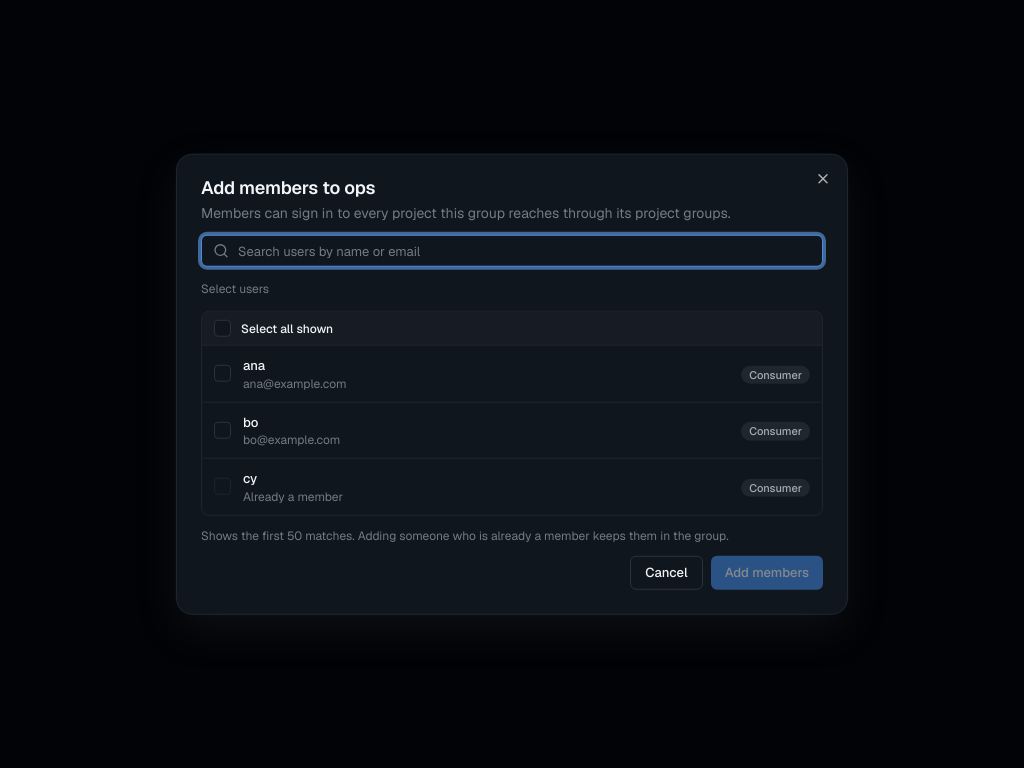
Test: AddMembersModal › shows bulk failures instead of claiming success
The image size is (1024, 768).
Click the checkbox named "ana" at point(222, 374), box [214, 365, 231, 382]
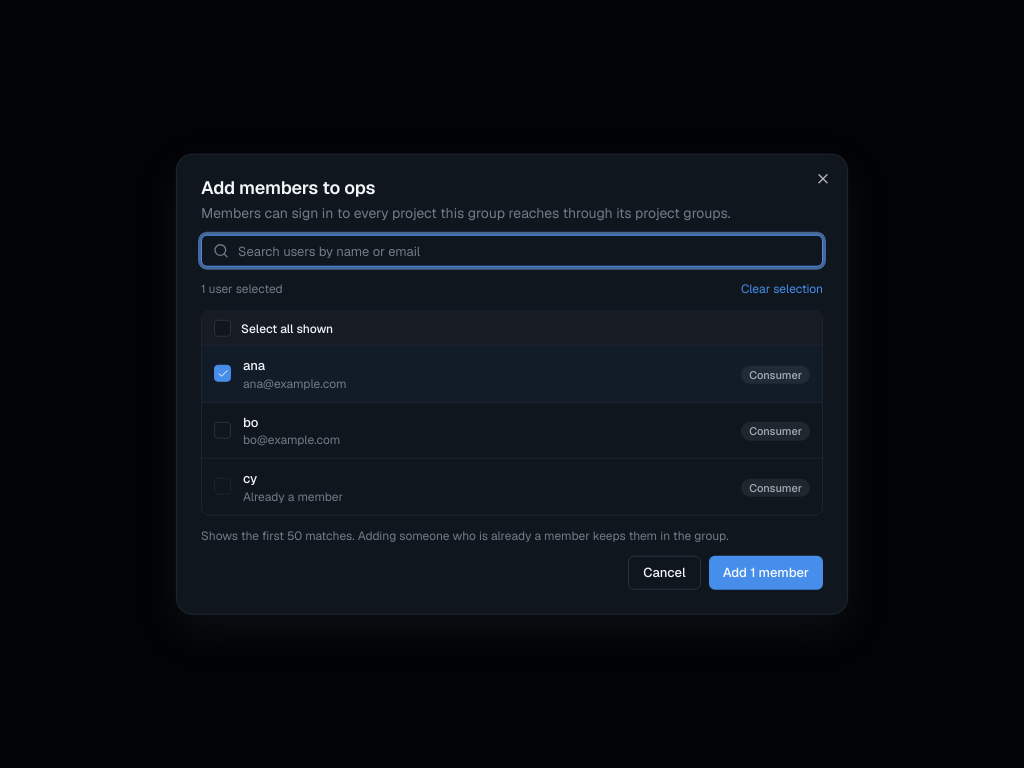
Click the checkbox named "bo" at point(222, 430), box [214, 422, 231, 438]
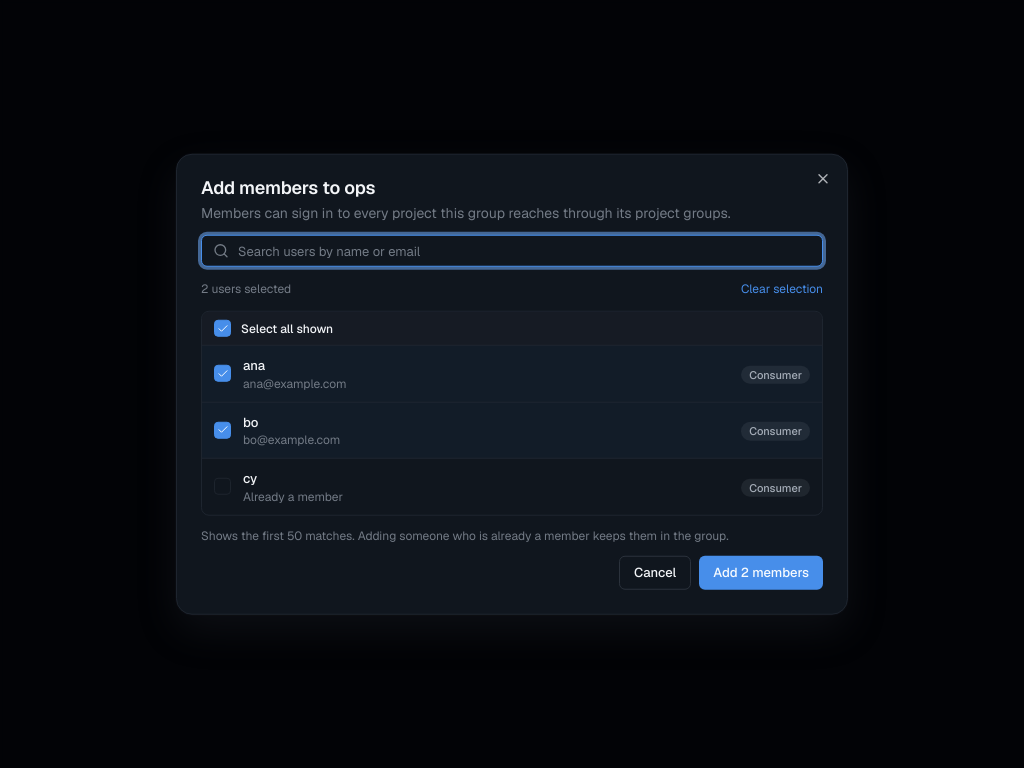
Click the button "Add 2 members" at point(761, 572), box [699, 555, 823, 589]
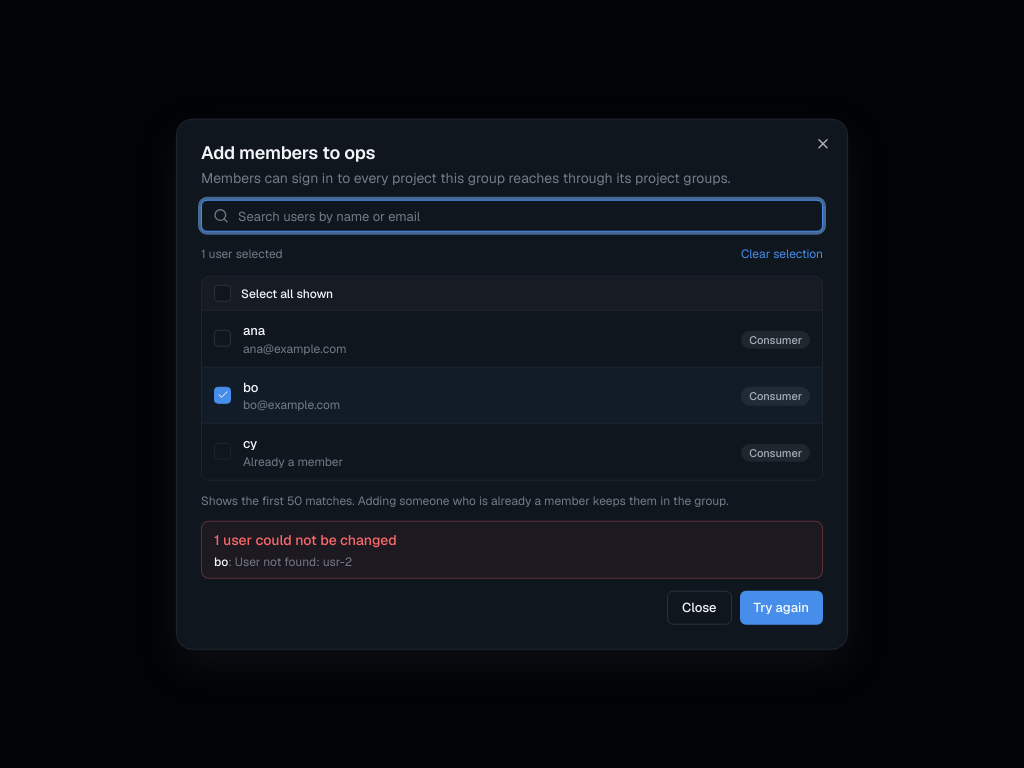
Check: the button "Try again" is enabled, box [740, 590, 823, 624]
Check: the message shows "1 user could not be changed", box [201, 520, 823, 578]
Check: the message shows "bo: User not found: usr-2", box [201, 520, 823, 578]
